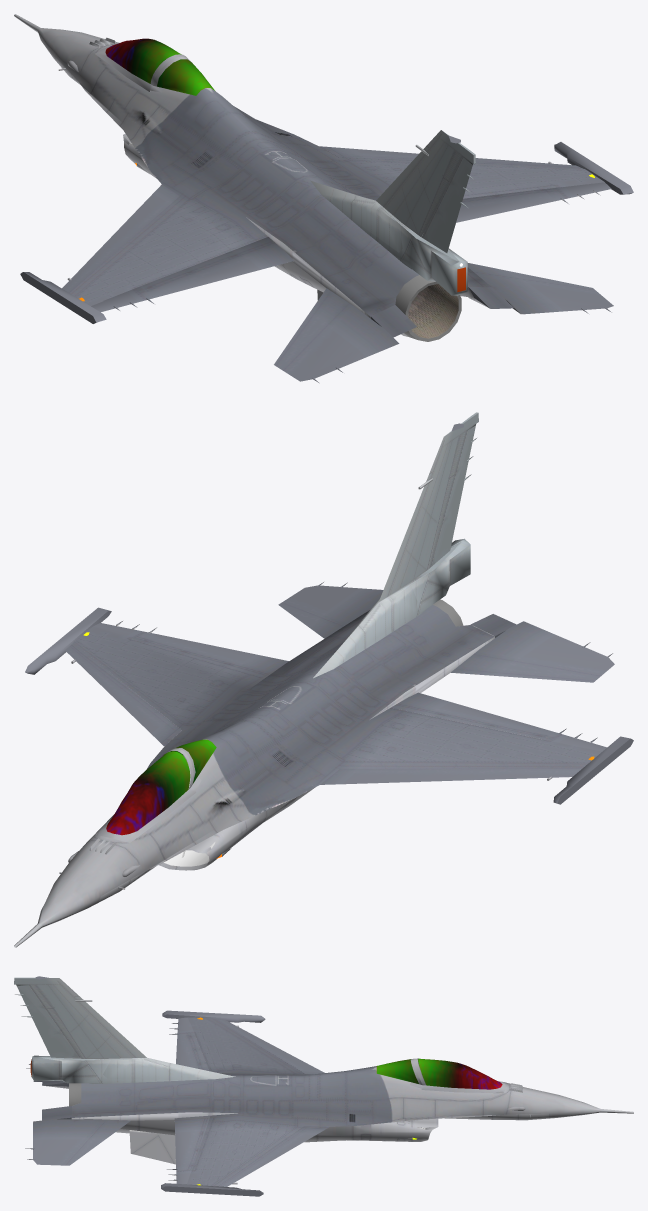
3 renders of one model, top to bottom at view 1: azimuth 30°, elevation 25°; view 2: azimuth 150°, elevation 25°; view 3: azimuth 270°, elevation 25°, orthographic. The views are drawn at different scales.
Parts seen in each view (by area): view 1: RadarDomeTop, LeftUpperHorizonTail, Tail, RightUpperHorizonTail, LeftUpperFlap, RNLAF_Tailroot, WingTips, LeftUpperLef, USAF_Tailroot, Poly.001, CanopyForwardInside, RightUpperFlap (+10 smaller); view 2: RadarDomeTop, LeftUpperHorizonTail, Tail, CanopyForwardInside, RightUpperHorizonTail, LeftUpperLef, RNLAF_Tailroot, WingTips, USAF_Tailroot, RightUpperLef, LeftUpperFlap, RightUpperFlap (+2 smaller); view 3: RadarDomeTop, Tail, RightUpperHorizonTail, RNLAF_Tailroot, USAF_Tailroot, CanopyForwardInside, WingTips, RightUpperFlap, RightUpperLef, VentralFins, Rudder.003, LeftUpperLef (+5 smaller).
Boxes of the visible parts, left/top/right/bottom form: RadarDomeTop: left=14, top=14, right=604, bottom=336; LeftUpperHorizonTail: left=274, top=288, right=399, bottom=383; Tail: left=376, top=130, right=475, bottom=236; RightUpperHorizonTail: left=467, top=263, right=613, bottom=314; LeftUpperFlap: left=140, top=237, right=294, bottom=297; RNLAF_Tailroot: left=342, top=197, right=467, bottom=295; WingTips: left=20, top=142, right=633, bottom=323; LeftUpperLef: left=62, top=184, right=179, bottom=292; USAF_Tailroot: left=310, top=180, right=411, bottom=269; Poly.001: left=408, top=284, right=458, bottom=338; CanopyForwardInside: left=105, top=38, right=181, bottom=83; RightUpperFlap: left=456, top=189, right=555, bottom=222; RadarDomeTop: left=14, top=605, right=601, bottom=947; LeftUpperHorizonTail: left=450, top=621, right=614, bottom=682; Tail: left=379, top=412, right=478, bottom=601; CanopyForwardInside: left=106, top=751, right=190, bottom=835; RightUpperHorizonTail: left=278, top=582, right=383, bottom=638; LeftUpperLef: left=320, top=768, right=581, bottom=784; RNLAF_Tailroot: left=355, top=538, right=470, bottom=655; WingTips: left=25, top=607, right=633, bottom=804; USAF_Tailroot: left=313, top=585, right=426, bottom=678; RightUpperLef: left=65, top=643, right=181, bottom=746; LeftUpperFlap: left=391, top=692, right=554, bottom=739; RightUpperFlap: left=143, top=634, right=288, bottom=676; RadarDomeTop: left=71, top=1017, right=633, bottom=1186; Tail: left=14, top=977, right=146, bottom=1058; RightUpperHorizonTail: left=25, top=1119, right=130, bottom=1165; RNLAF_Tailroot: left=31, top=1055, right=184, bottom=1083; USAF_Tailroot: left=54, top=1058, right=235, bottom=1083; CanopyForwardInside: left=418, top=1058, right=502, bottom=1089; WingTips: left=161, top=1010, right=265, bottom=1196; RightUpperFlap: left=174, top=1115, right=210, bottom=1167; RightUpperLef: left=215, top=1126, right=329, bottom=1186; VentralFins: left=129, top=1130, right=175, bottom=1164; Rudder.003: left=15, top=985, right=81, bottom=1058; LeftUpperLef: left=215, top=1018, right=324, bottom=1074.
Size of what is drawn, in the model's own units: 9.6 by 4.45 by 14.31.
Materials: 17 (7 with a texture image).
